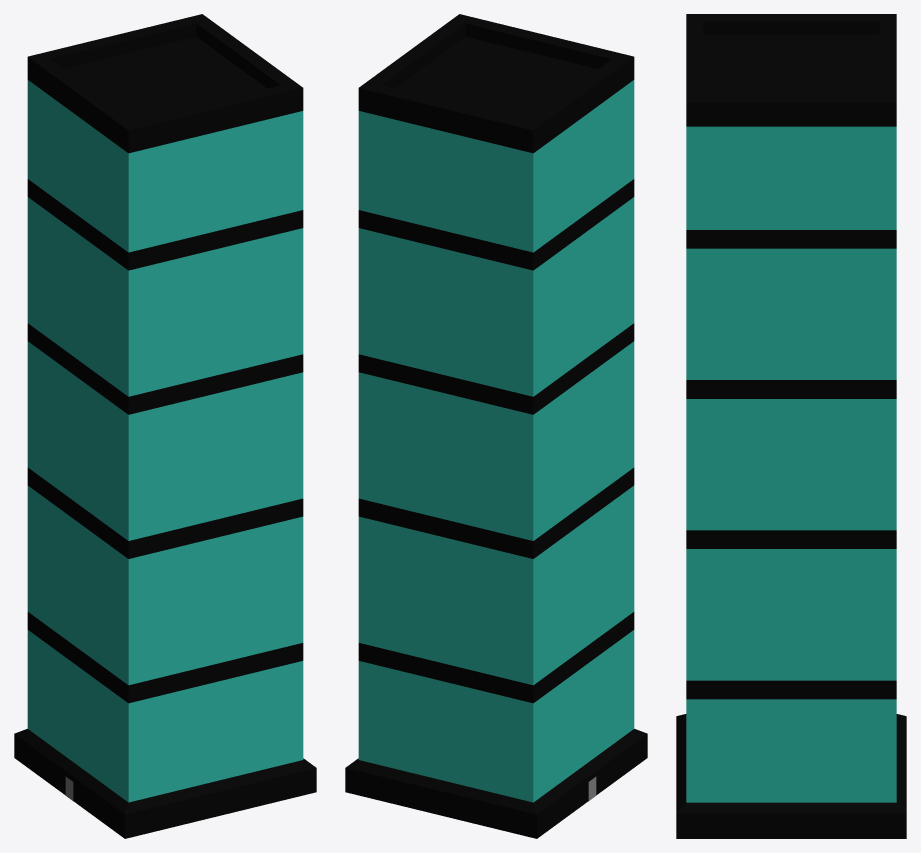
File: Skyscraper1.gltf
3 views of the same model, side by side, from view 1: azimuth 30°, elevation 25°; view 2: azimuth 150°, elevation 25°; view 3: azimuth 270°, elevation 25° (orthographic). The views are drawn at different scales.
Visible parts, largest first — view 1: Skyscraper1; view 2: Skyscraper1; view 3: Skyscraper1.
Part boxes in pixels (x1=…): Skyscraper1: x1=14, y1=14, x2=316, y2=838; Skyscraper1: x1=345, y1=14, x2=647, y2=838; Skyscraper1: x1=676, y1=14, x2=906, y2=838.
Size of the model in its own units: 2.19 by 7.68 by 2.19.
